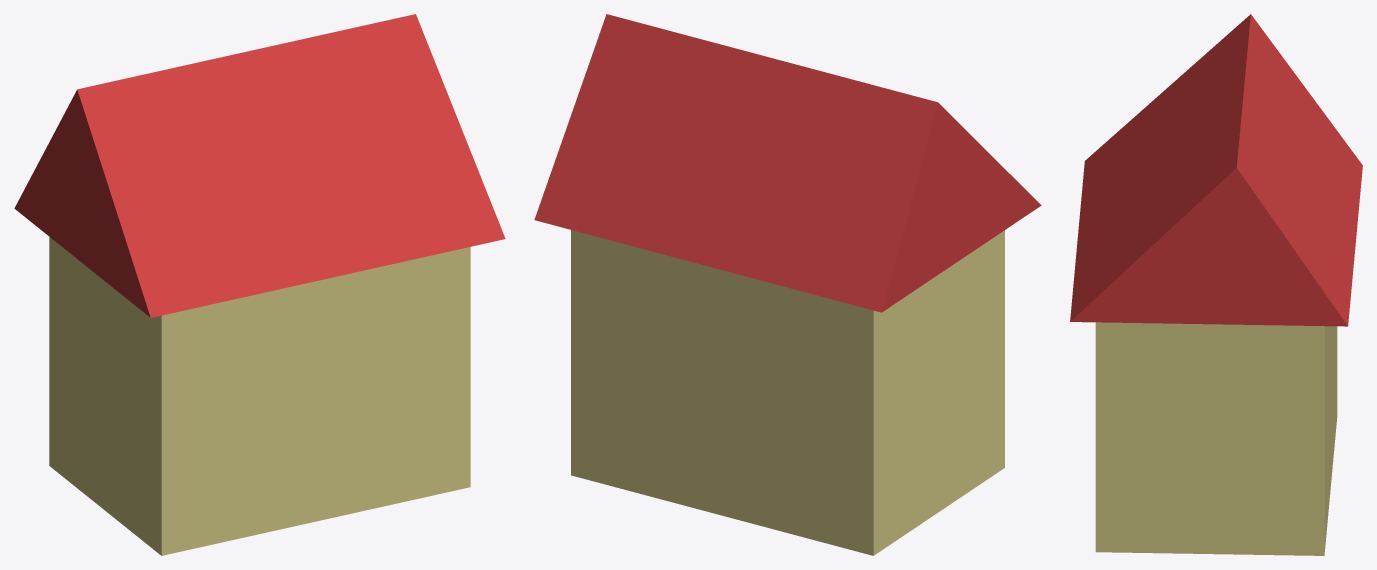
3 renders of one model, left to right at view 1: azimuth 30°, elevation 25°; view 2: azimuth 150°, elevation 25°; view 3: azimuth 270°, elevation 25°, orthographic. The views are drawn at different scales.
Parts seen in each view (by area): view 1: group_5, group_3, group_4; view 2: group_5, group_3, group_4; view 3: group_3, group_5, group_4.
Part boxes in pixels (x1,y1,x2,y2): group_5: (49, 237, 470, 555); group_3: (14, 14, 470, 317); group_4: (16, 15, 505, 317); group_5: (571, 230, 1004, 555); group_3: (534, 15, 1041, 312); group_4: (591, 14, 1039, 310); group_3: (1070, 14, 1362, 326); group_5: (1095, 322, 1337, 555); group_4: (1070, 14, 1346, 325).
Bounding box in the file's own units: 11.95 × 8.93 × 13.24.
